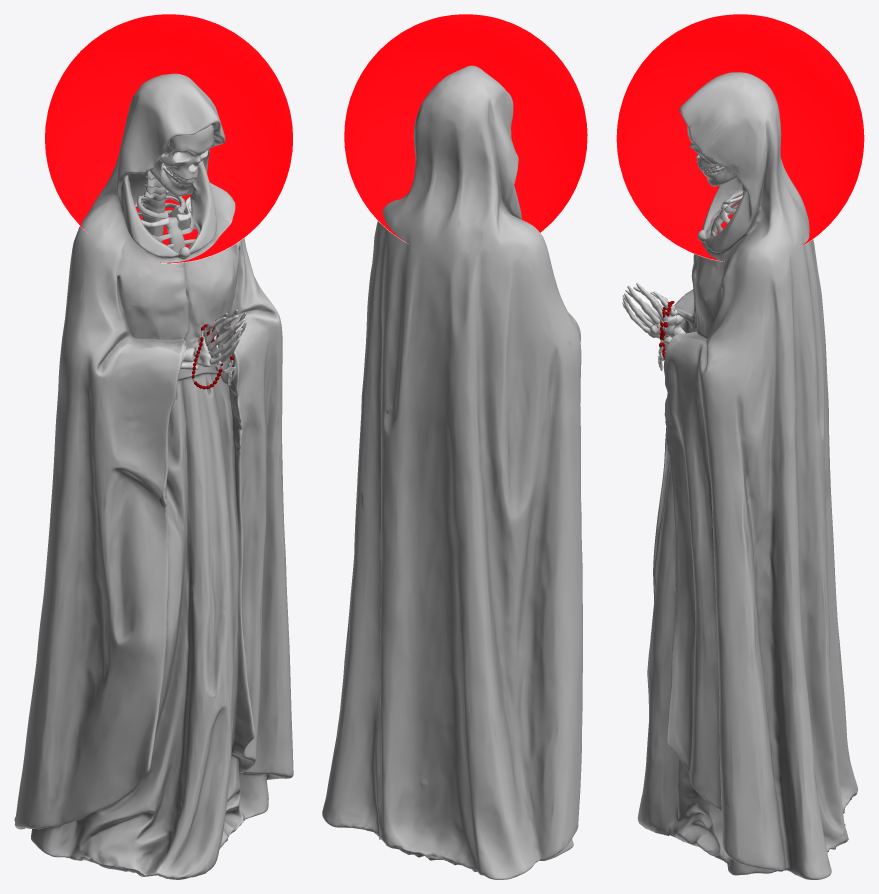
Rendered from skeleton.glb.
3 renders of one model, left to right at view 1: azimuth 30°, elevation 25°; view 2: azimuth 150°, elevation 25°; view 3: azimuth 270°, elevation 25°, orthographic. The views are drawn at different scales.
Parts seen in each view (by area): view 1: Robe, HaloRed, Skull, SpineAndChest, RightHand, Rosary, HaloWhite, LeftHand, CollarBone; view 2: Robe, HaloRed; view 3: Robe, HaloRed, LeftHand, Skull, HaloWhite.
Part boxes in pixels (left/top/right/bottom): Robe: left=14, top=73, right=293, bottom=879; HaloRed: left=45, top=14, right=292, bottom=263; Skull: left=150, top=124, right=213, bottom=196; SpineAndChest: left=134, top=154, right=198, bottom=253; RightHand: left=180, top=315, right=245, bottom=370; Rosary: left=191, top=319, right=235, bottom=389; HaloWhite: left=44, top=14, right=293, bottom=263; LeftHand: left=209, top=309, right=246, bottom=365; CollarBone: left=141, top=196, right=195, bottom=230; Robe: left=322, top=65, right=582, bottom=879; HaloRed: left=344, top=14, right=587, bottom=243; Robe: left=637, top=72, right=857, bottom=879; HaloRed: left=616, top=14, right=864, bottom=261; LeftHand: left=622, top=282, right=685, bottom=344; Skull: left=687, top=125, right=737, bottom=186; HaloWhite: left=616, top=14, right=864, bottom=261.
Size of the model in its own units: 0.7129 by 2.2 by 0.6111.
9 materials, 1 textured.
